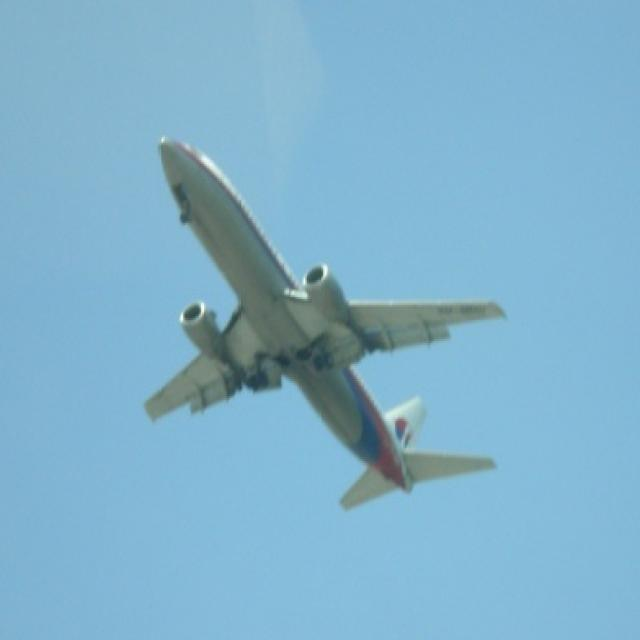aeroplane: (141, 132, 506, 510)
